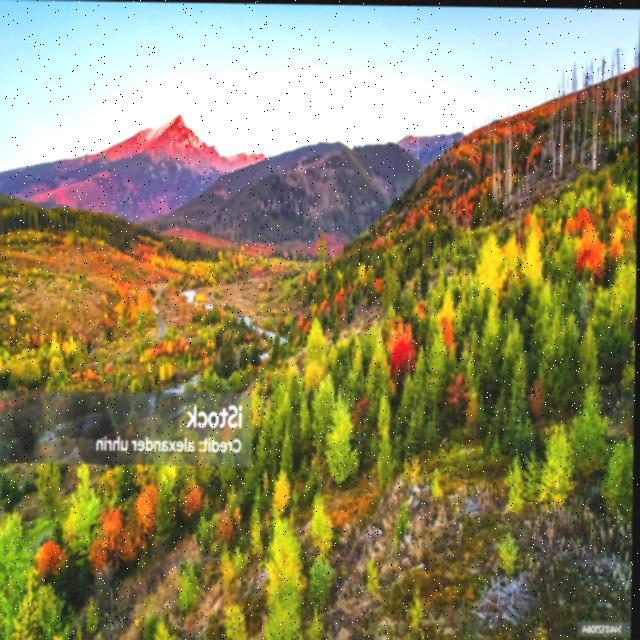Krivan: (146, 71, 214, 163)
